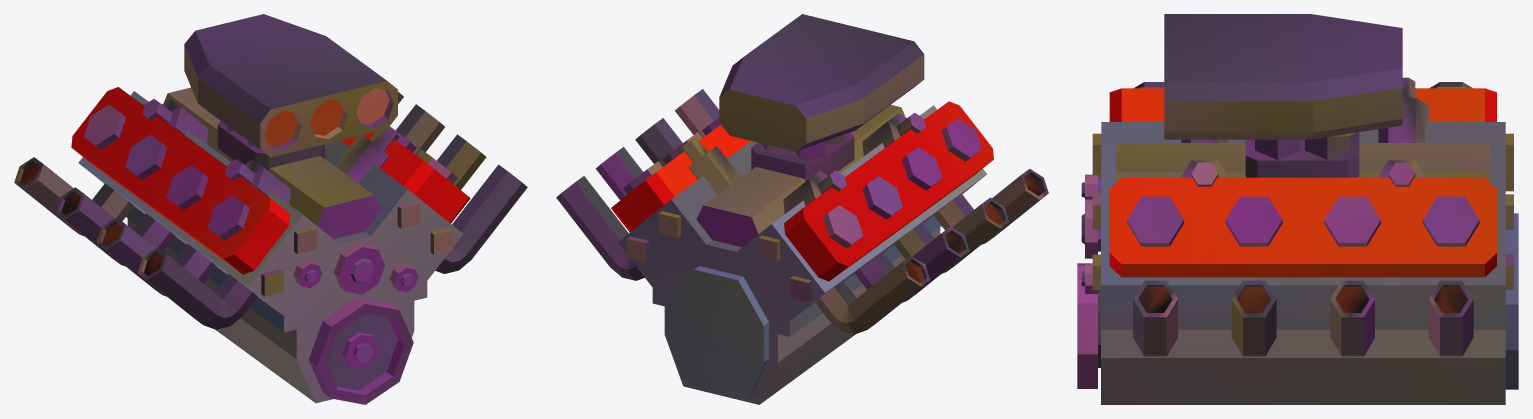
Rendered from EngineLvl5.fbx.
3 views of the same model, side by side, from view 1: azimuth 30°, elevation 25°; view 2: azimuth 150°, elevation 25°; view 3: azimuth 270°, elevation 25° (orthographic). The views are drawn at different scales.
Parts seen in each view (by area): view 1: engine_lvl5; view 2: engine_lvl5; view 3: engine_lvl5.
Part boxes in pixels (x1=…): engine_lvl5: x1=14, y1=14, x2=527, y2=404; engine_lvl5: x1=556, y1=14, x2=1048, y2=404; engine_lvl5: x1=1077, y1=14, x2=1518, y2=404.
Size of the model in its own units: 1.92 by 1.36 by 1.61.
